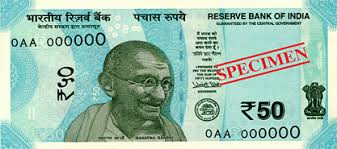fifty: (10, 30, 306, 122)
